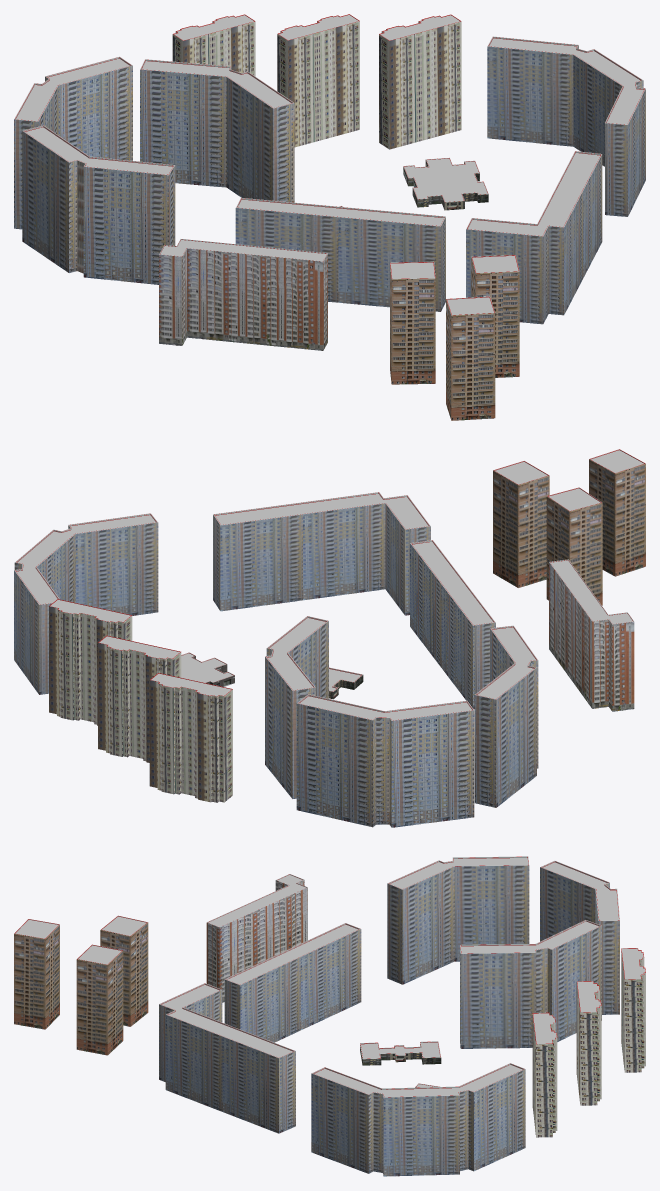
The model's file is MODEL_HUB_new.FBX.
3 views of the same model, one above another, from view 1: azimuth 30°, elevation 25°; view 2: azimuth 150°, elevation 25°; view 3: azimuth 270°, elevation 25° (orthographic). The views are drawn at different scales.
Visible parts, largest first — view 1: SM_Buildings_new; view 2: SM_Buildings_new; view 3: SM_Buildings_new.
Part boxes in pixels (x1=…): SM_Buildings_new: x1=14, y1=14, x2=645, y2=420; SM_Buildings_new: x1=14, y1=449, x2=645, y2=827; SM_Buildings_new: x1=14, y1=856, x2=645, y2=1176.
Bounding box in the file's own units: 370 × 72.65 × 438.
